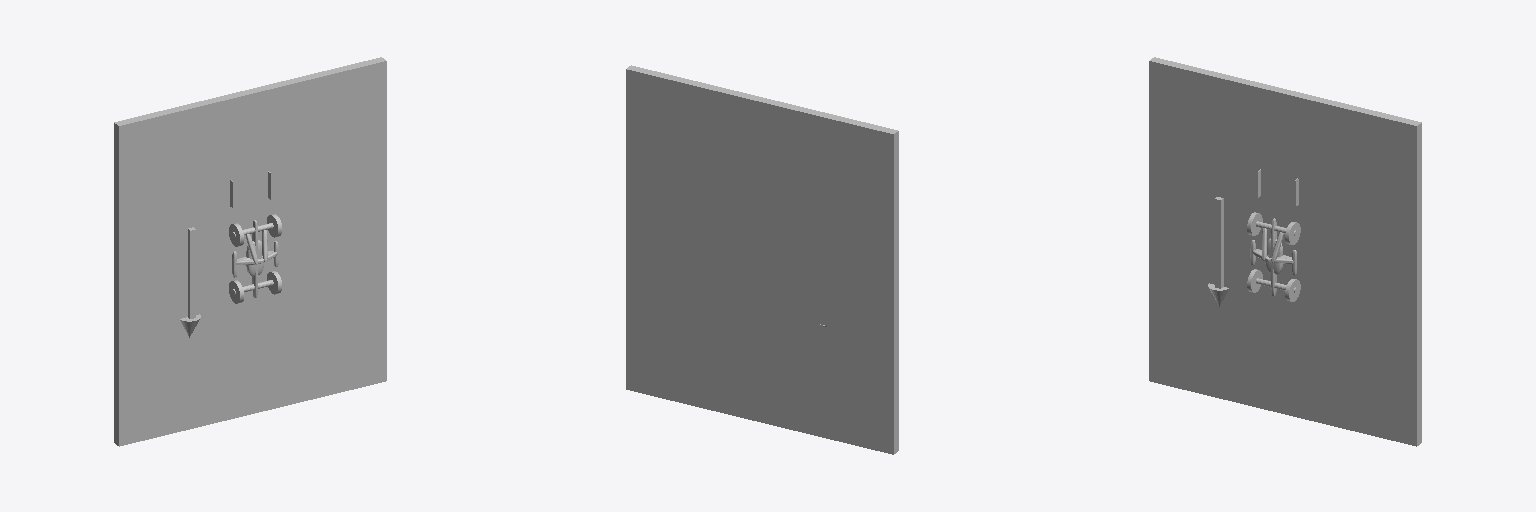
File: car_for_aos4.obj
The picture shows the model from 3 angles: view 1: azimuth 30°, elevation 25°; view 2: azimuth 150°, elevation 25°; view 3: azimuth 330°, elevation 25°; orthographic projection.
Visible parts, largest first — view 1: obj_0; view 2: obj_0; view 3: obj_0.
Part boxes in pixels (x1,y1,x2,y2): obj_0: (114,57,386,446); obj_0: (626,65,898,454); obj_0: (1149,57,1421,446).
Size of the model in its own units: 266 by 304 by 30.35.